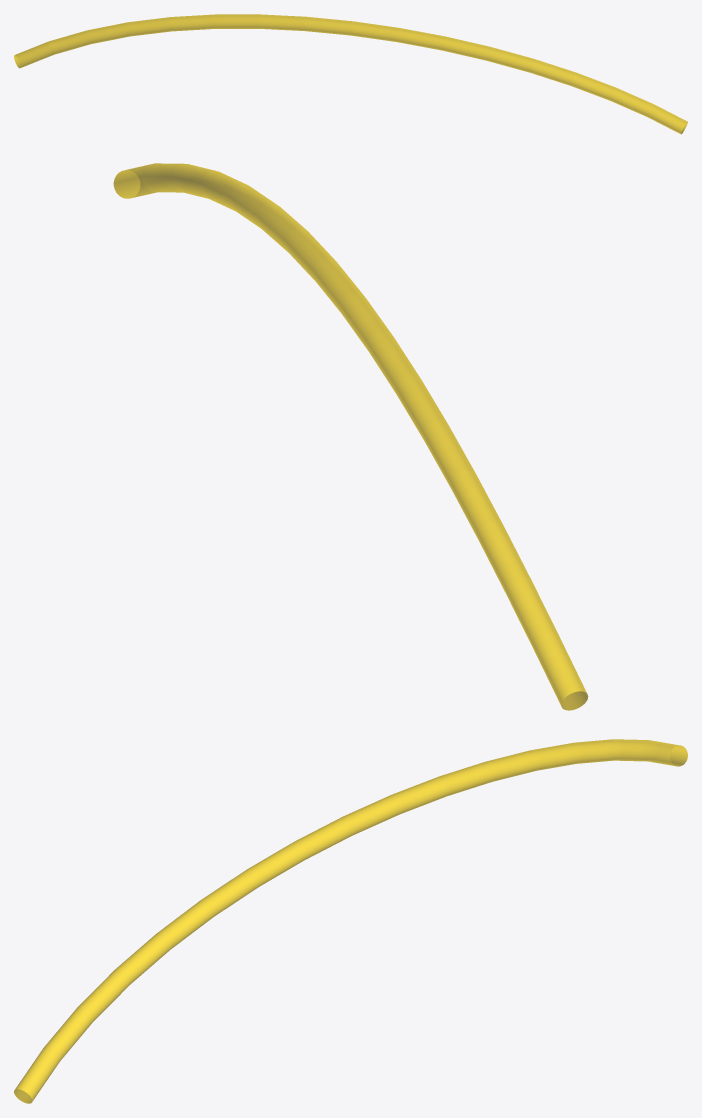
Rendered from Event_17758602_track_136.fbx.
3 renders of one model, top to bottom at view 1: azimuth 30°, elevation 25°; view 2: azimuth 150°, elevation 25°; view 3: azimuth 270°, elevation 25°, orthographic. The views are drawn at different scales.
Visible parts, largest first — view 1: Model; view 2: Model; view 3: Model.
Boxes of the visible parts, x1=… form: Model: x1=14, y1=14, x2=687, y2=134; Model: x1=113, y1=163, x2=588, y2=710; Model: x1=14, y1=739, x2=687, y2=1103.
Bounding box in the file's own units: 1.45 × 0.2625 × 1.26.
